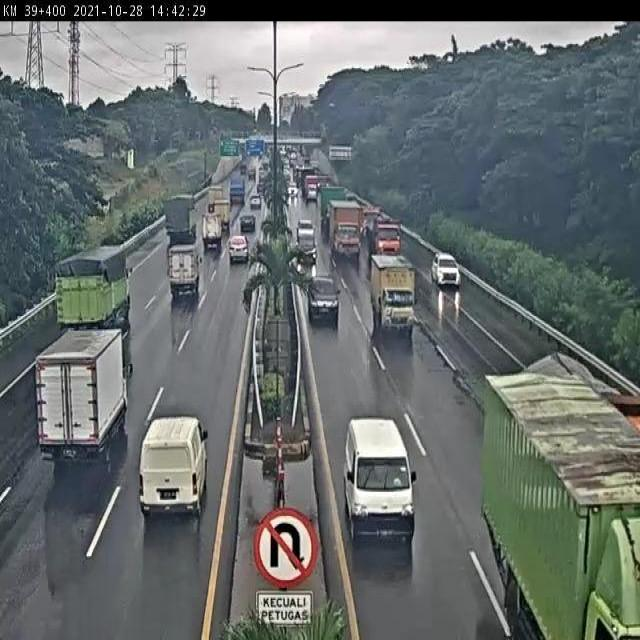car: (133, 414, 211, 526)
